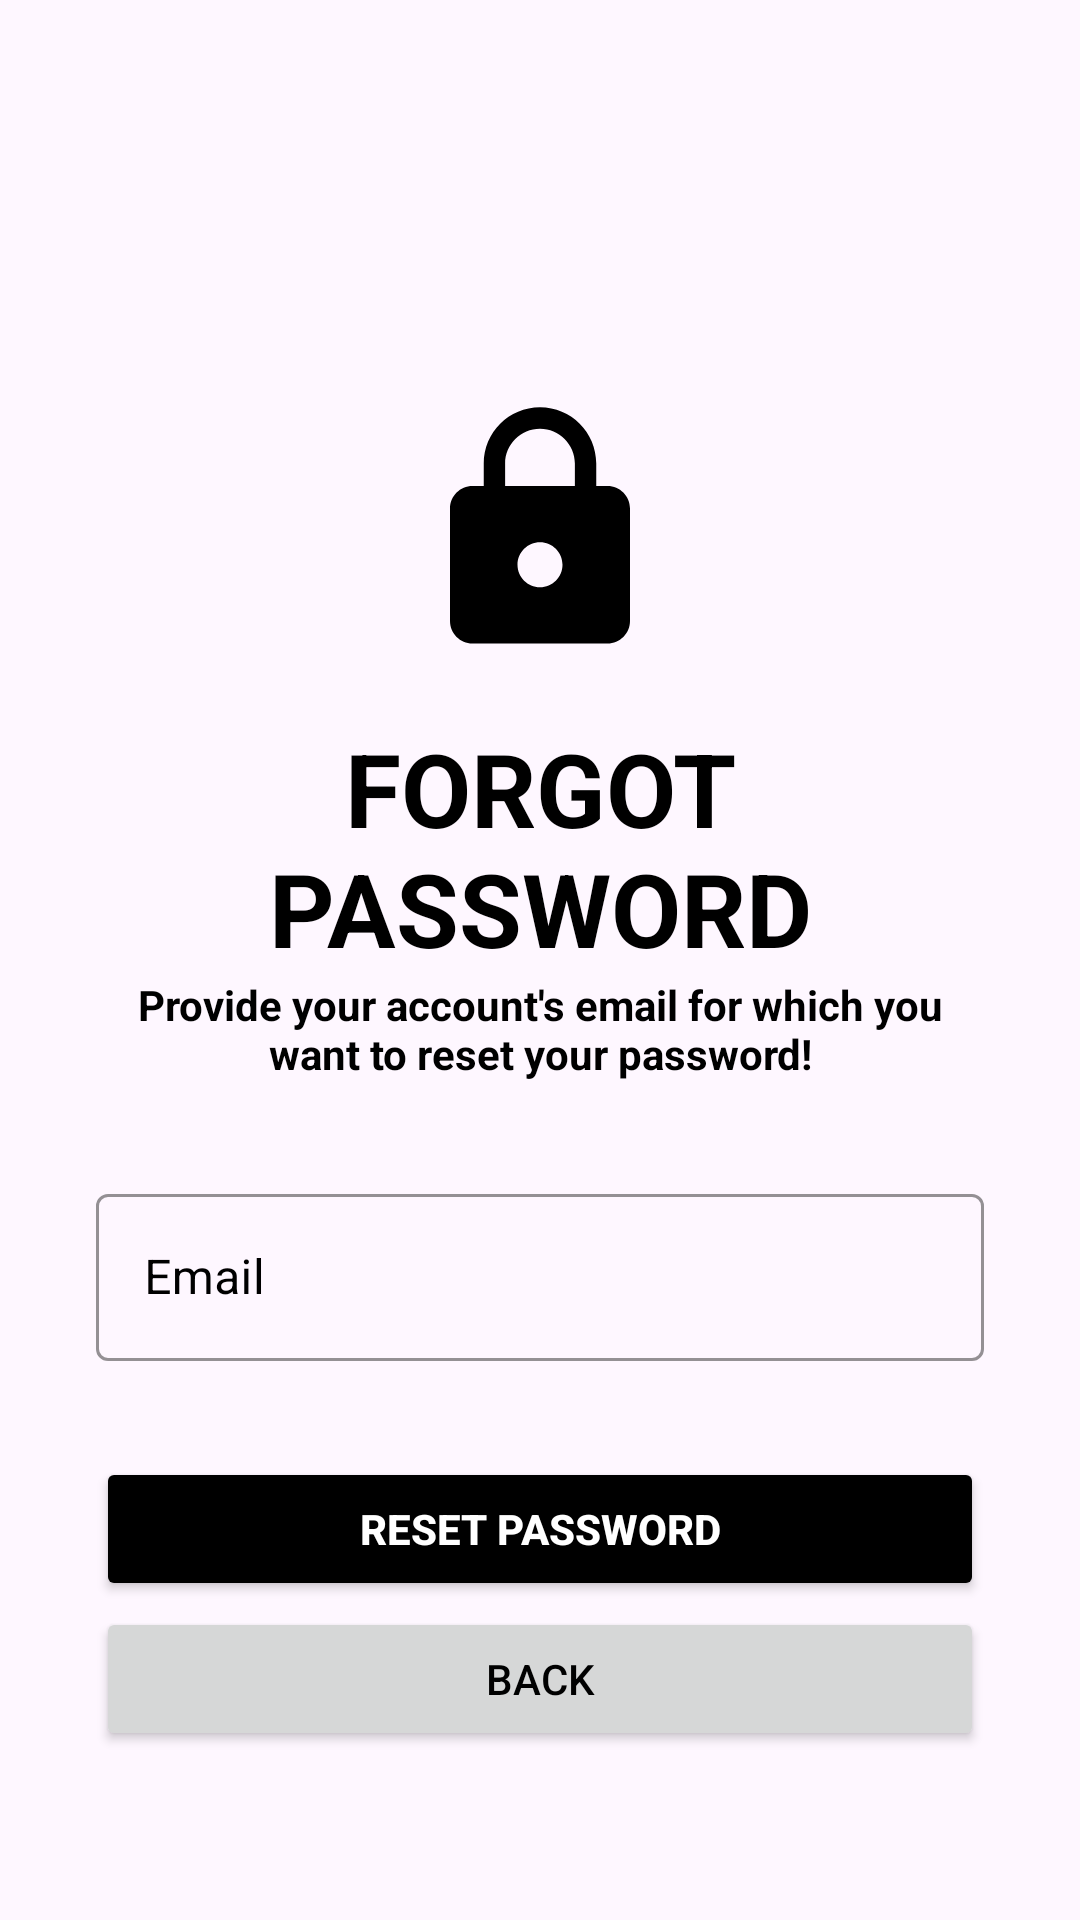

Named icons in this screenshot (1080w x 1920h) and their centers, [x,y]:
lock: [540,525]
